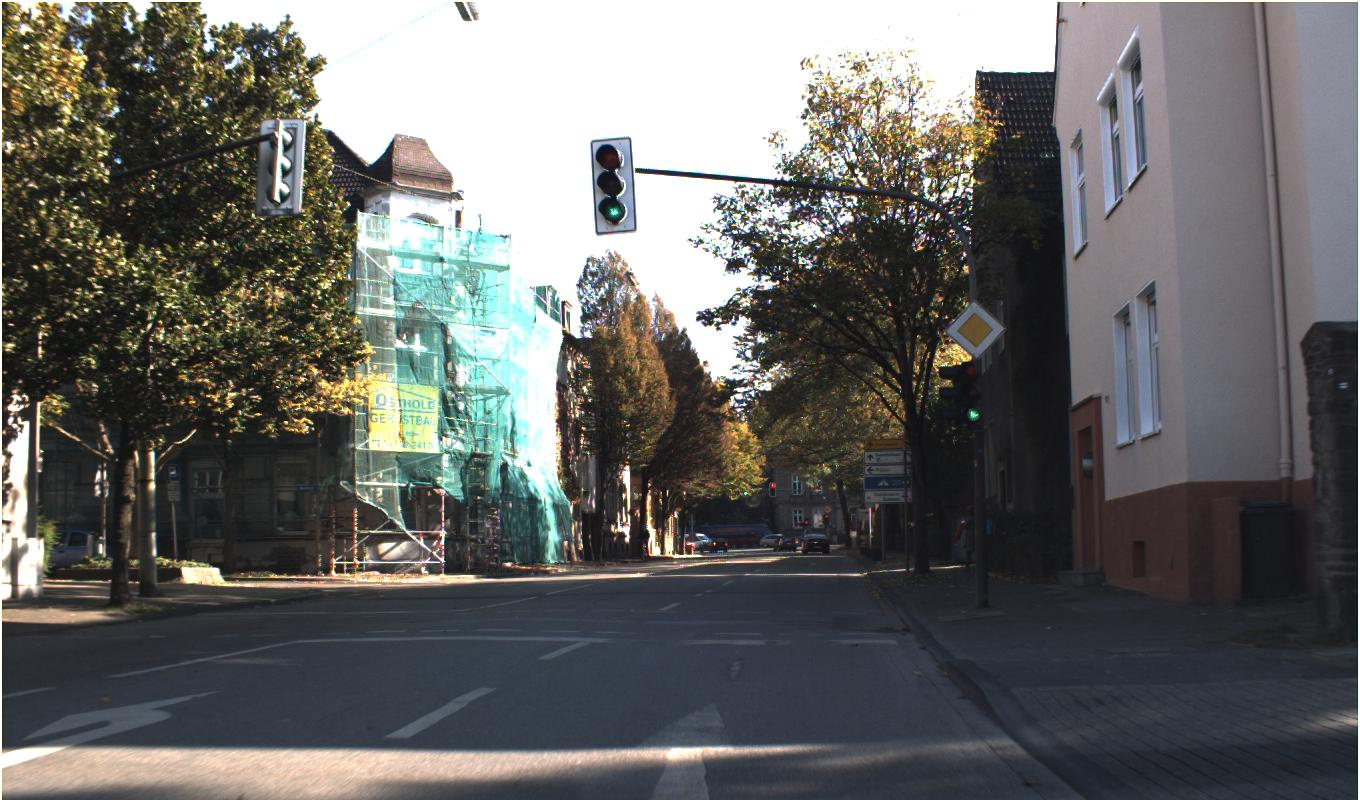sign: (944, 298, 1007, 361)
